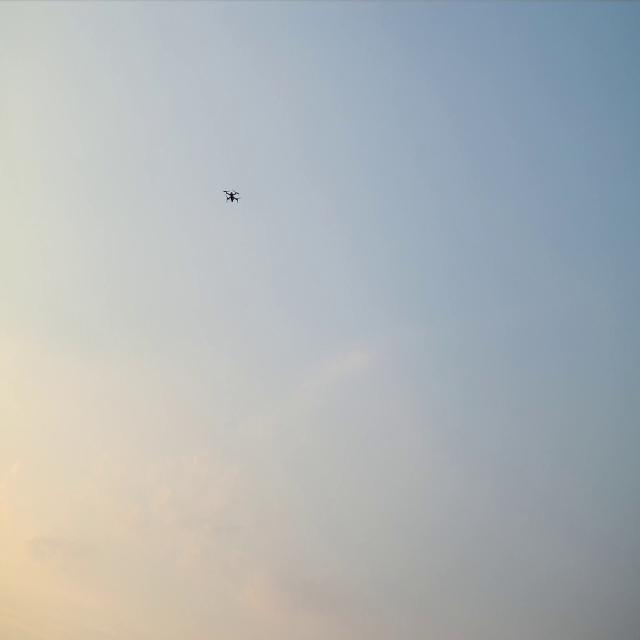UAV: (224, 191, 238, 202)
